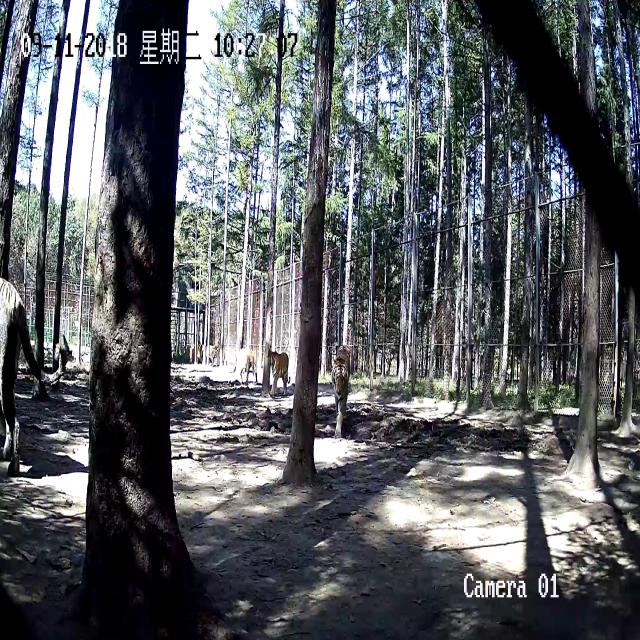Tiger: (2, 270, 60, 457), (325, 338, 361, 452), (236, 334, 264, 396), (268, 346, 293, 399), (185, 337, 206, 372), (204, 340, 225, 371)
